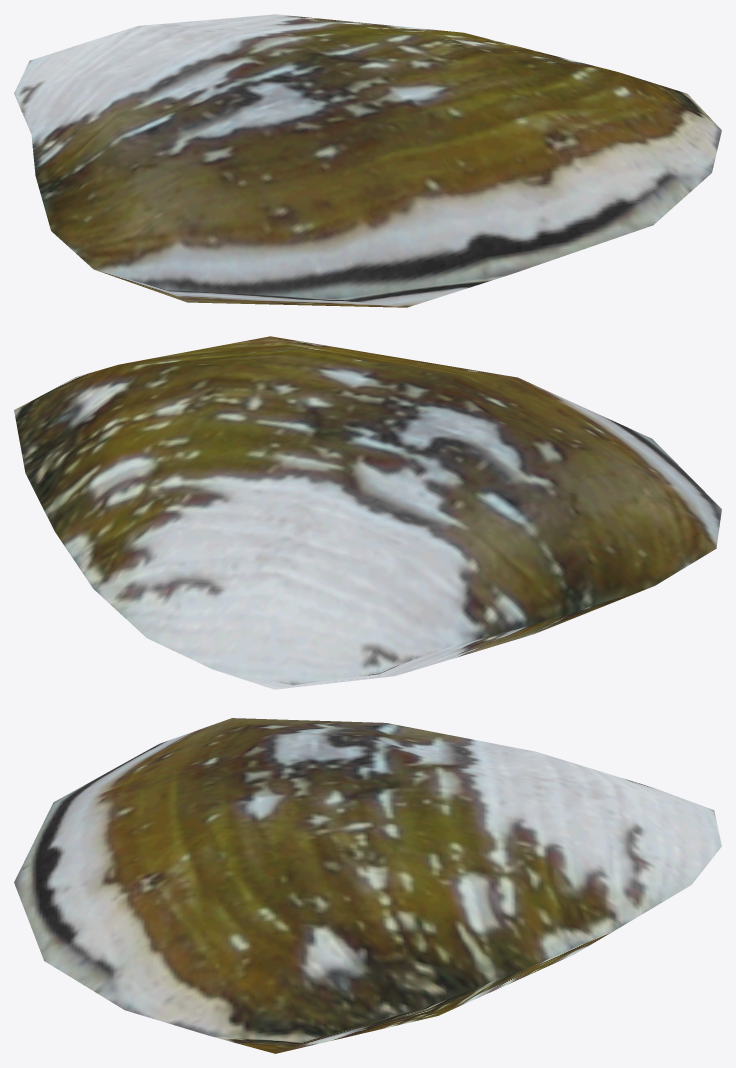
File: SeaShell-14_LOD0_Small.glb
The picture shows the model from 3 angles, top to bottom: view 1: azimuth 30°, elevation 25°; view 2: azimuth 150°, elevation 25°; view 3: azimuth 270°, elevation 25°; orthographic projection. The views are drawn at different scales.
Parts seen in each view (by area): view 1: SeaShell-14_high; view 2: SeaShell-14_high; view 3: SeaShell-14_high.
Part boxes in pixels (<box>): SeaShell-14_high: <box>14,14,721,307</box>; SeaShell-14_high: <box>14,336,721,689</box>; SeaShell-14_high: <box>14,718,721,1053</box>.
Bounding box in the file's own units: 0.0222 × 0.00621 × 0.0211.
1 material, 1 textured.
